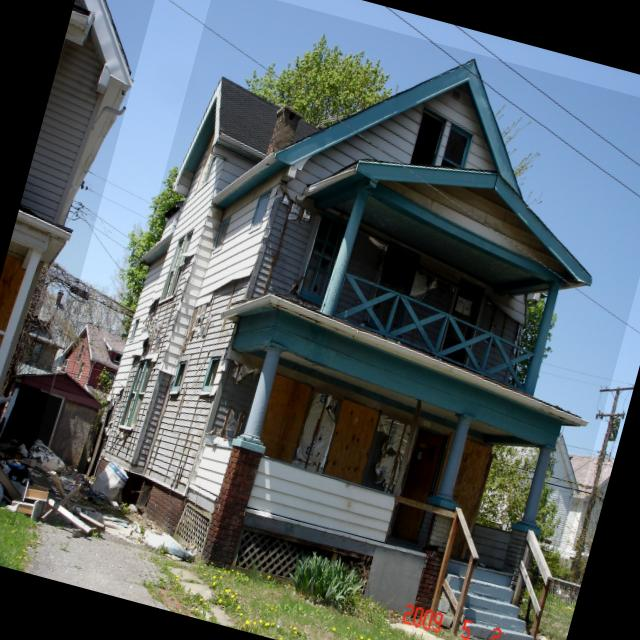House: (68, 0, 640, 640), (0, 0, 164, 525), (52, 318, 128, 404)
